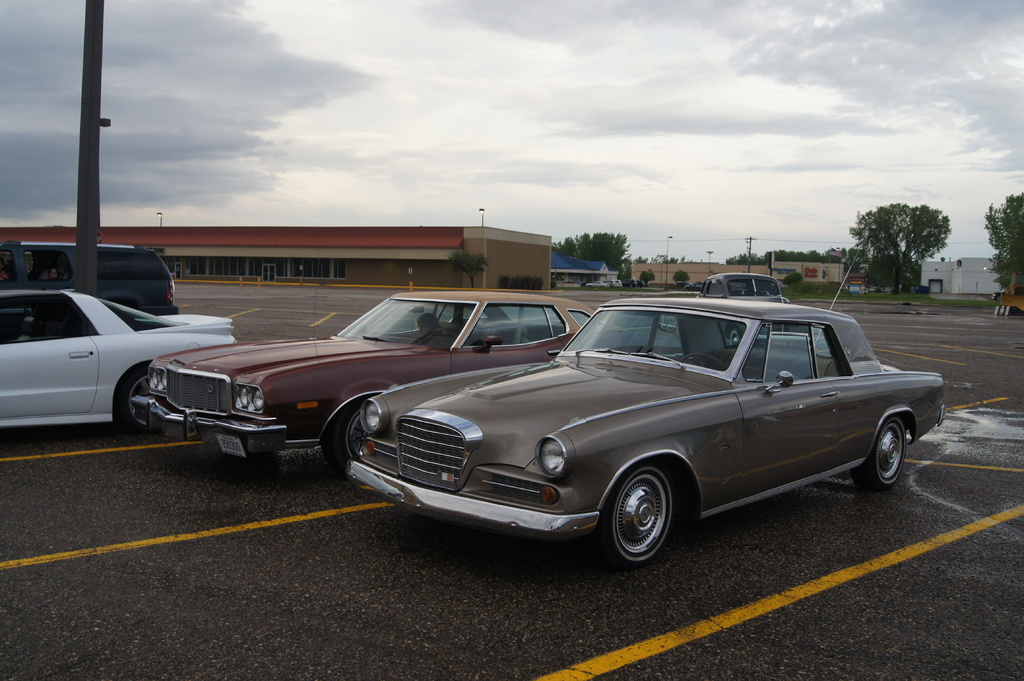Car: (346, 291, 945, 568), (126, 291, 595, 466), (0, 291, 234, 426), (0, 235, 172, 318), (698, 273, 794, 339)
